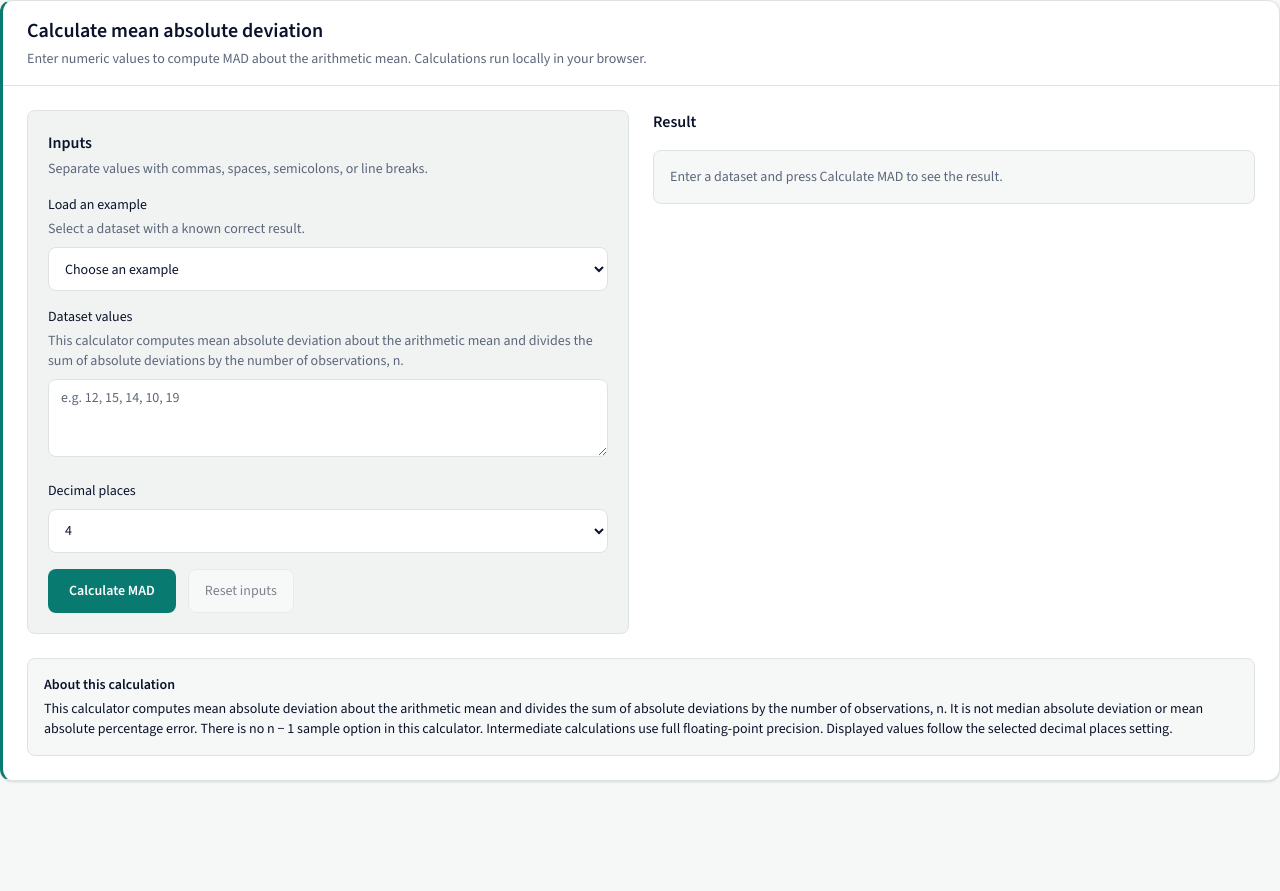
Test: MeanAbsoluteDeviationCalculator validation › clears stale results after an invalid Calculate MAD attempt
In the text box labelled "Dataset values": (328,418) [48,379,608,457], type "12, 15, 14, 10, 19"
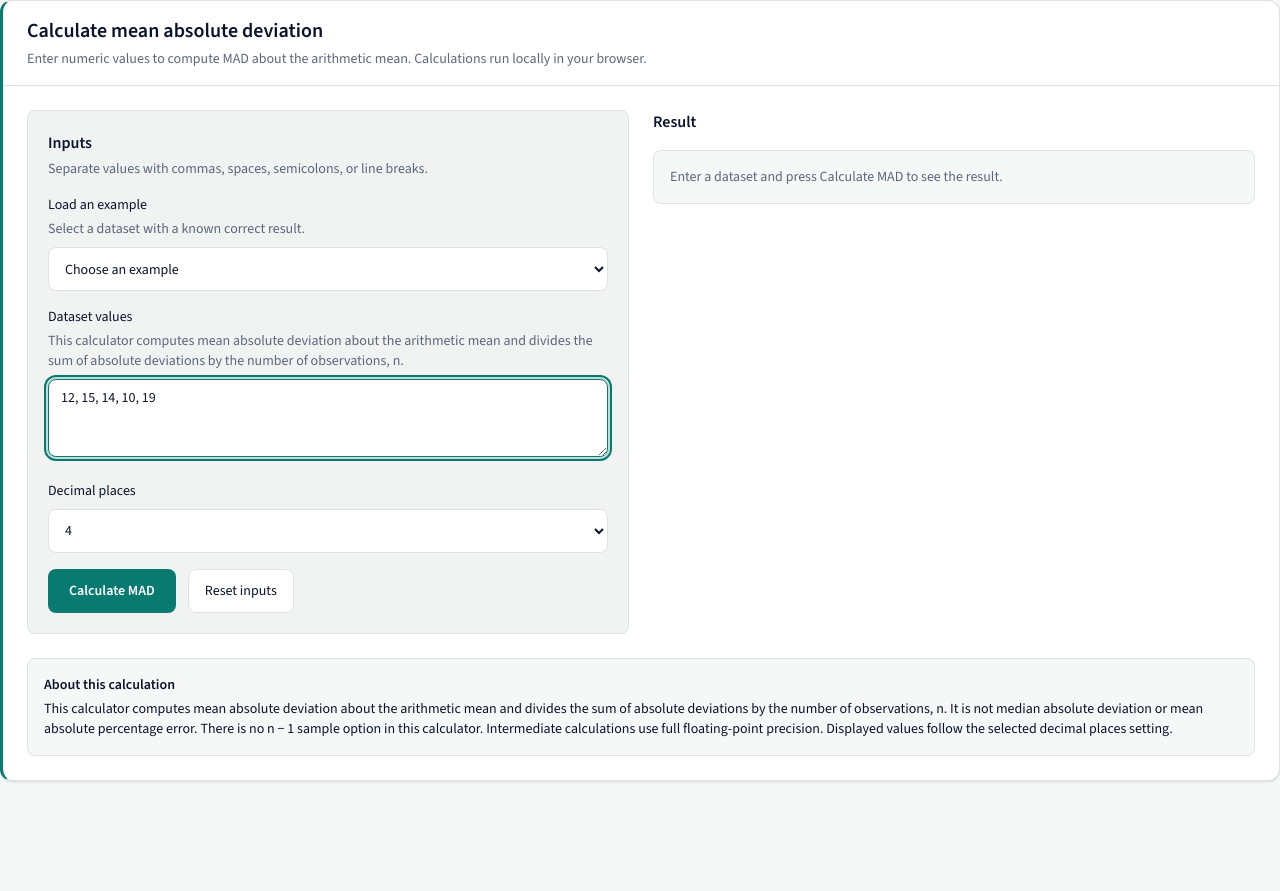
Click the button "Calculate MAD": (112,591) [48,569,176,613]
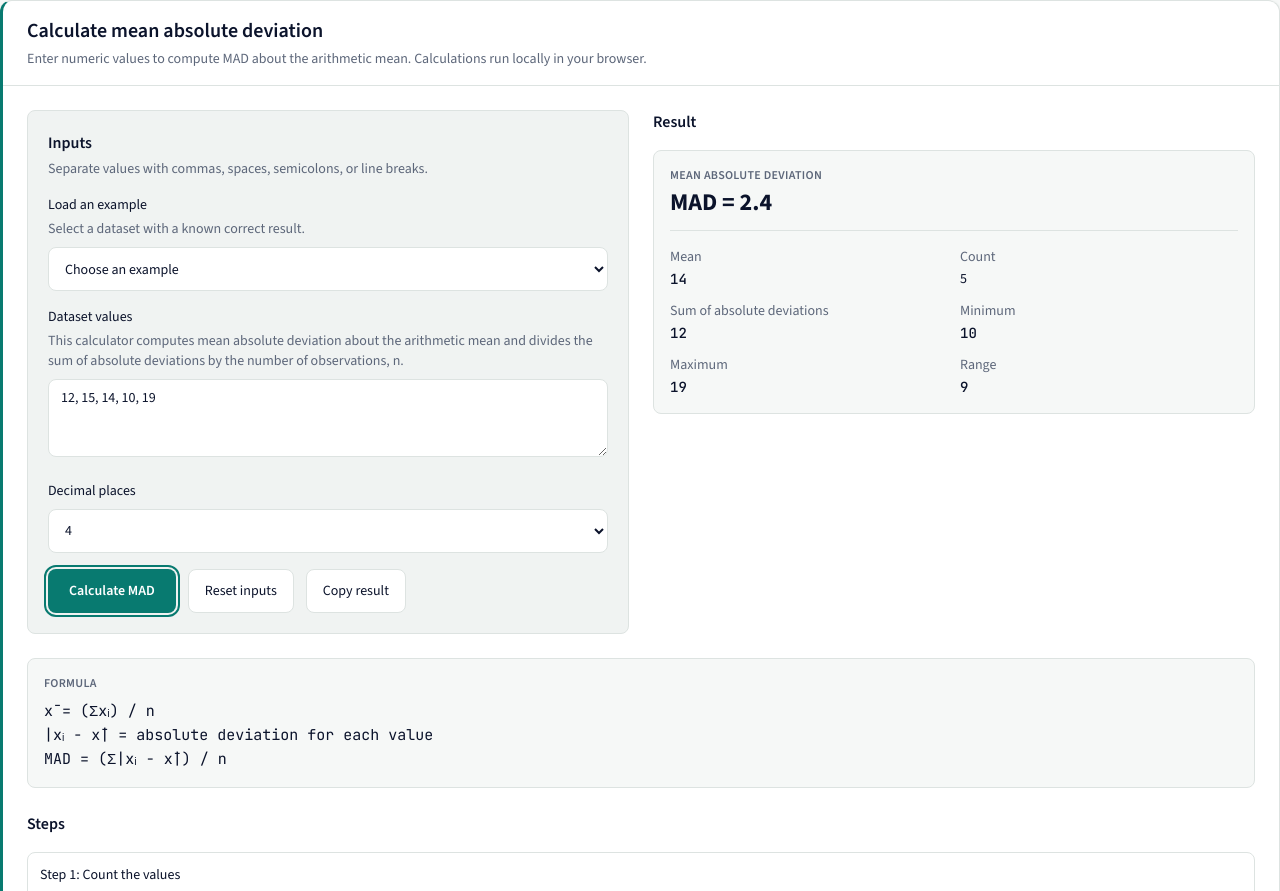
Now the text "2.4" is shown, box [740,186,772,218]
Replace the text in the text box labelled "Dataset values" with "abc": (328,418) [48,379,608,457]
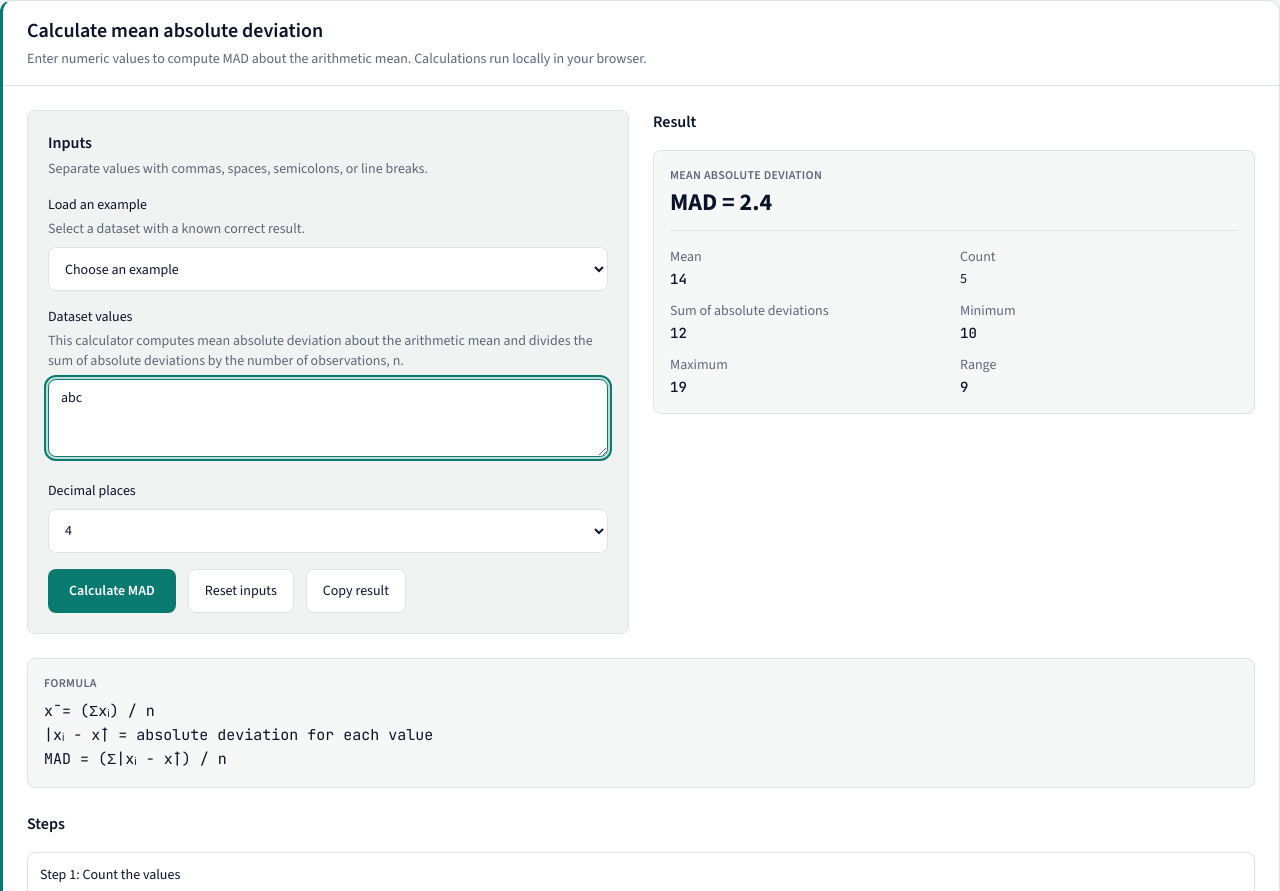
Click the button "Calculate MAD": (112,591) [48,569,176,613]
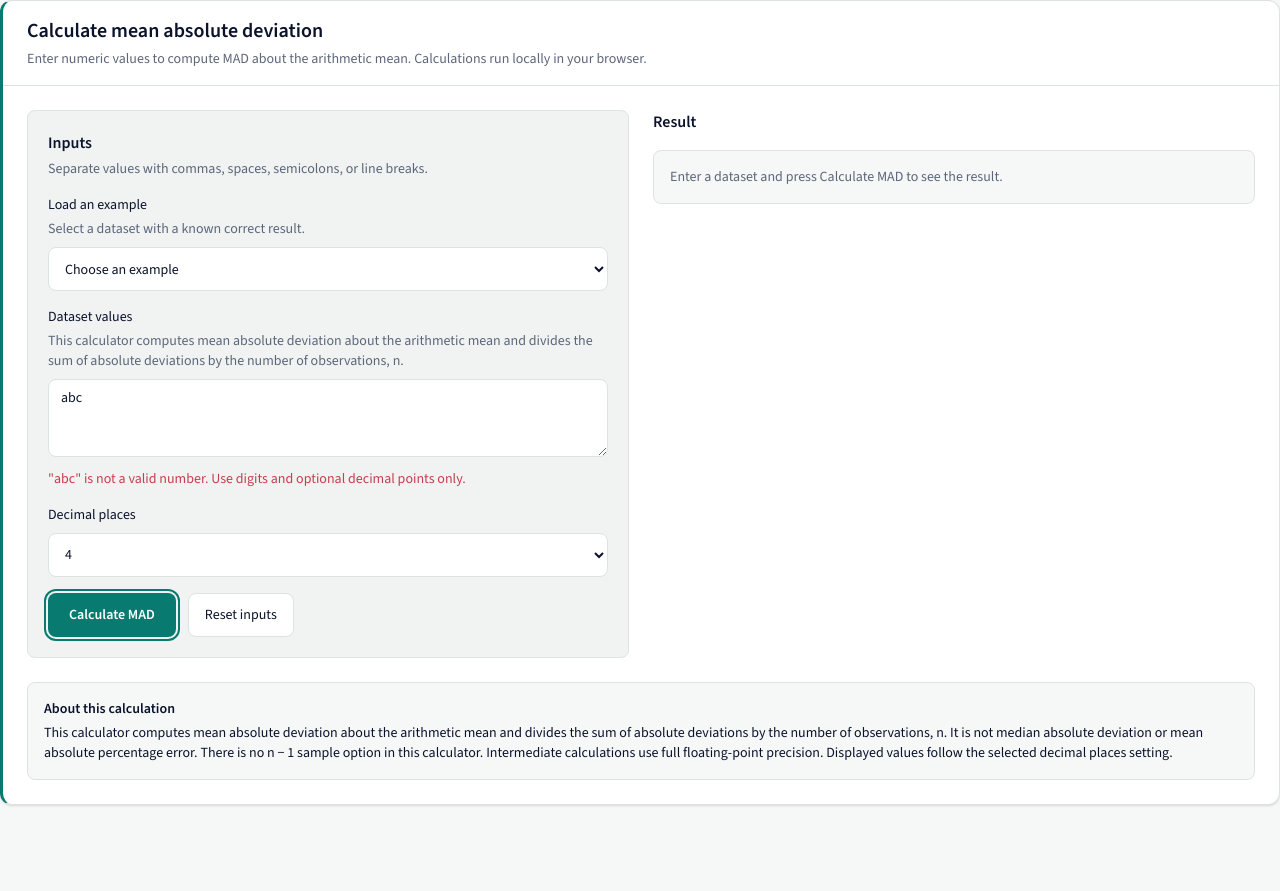
Now the message shows "not a valid number", box [48,469,466,488]
Now the text "Enter a dataset and press Calculate MAD to see the result." is shown, box [670,167,1003,186]
Now the text "2.4" is gone
